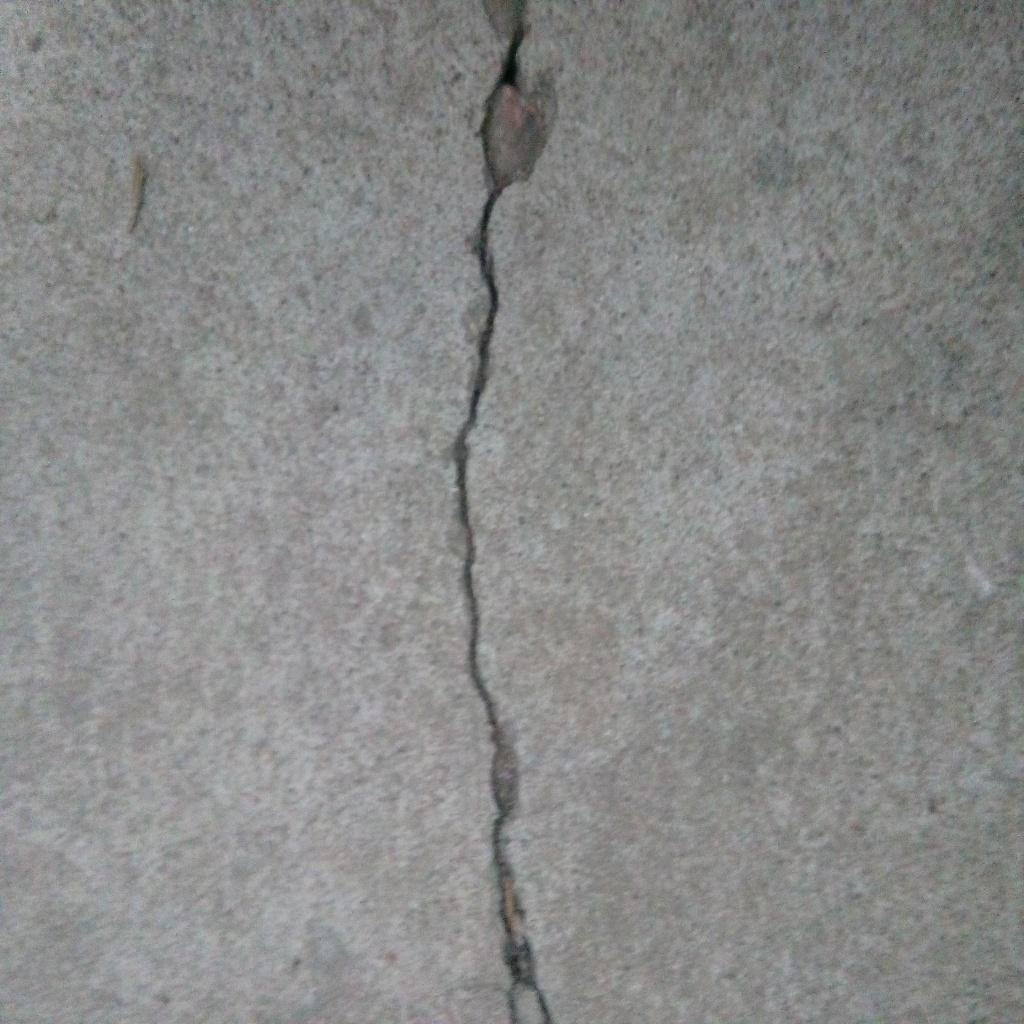Crack: (453, 1, 553, 1024)
